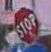stop: (14, 6, 38, 45)
